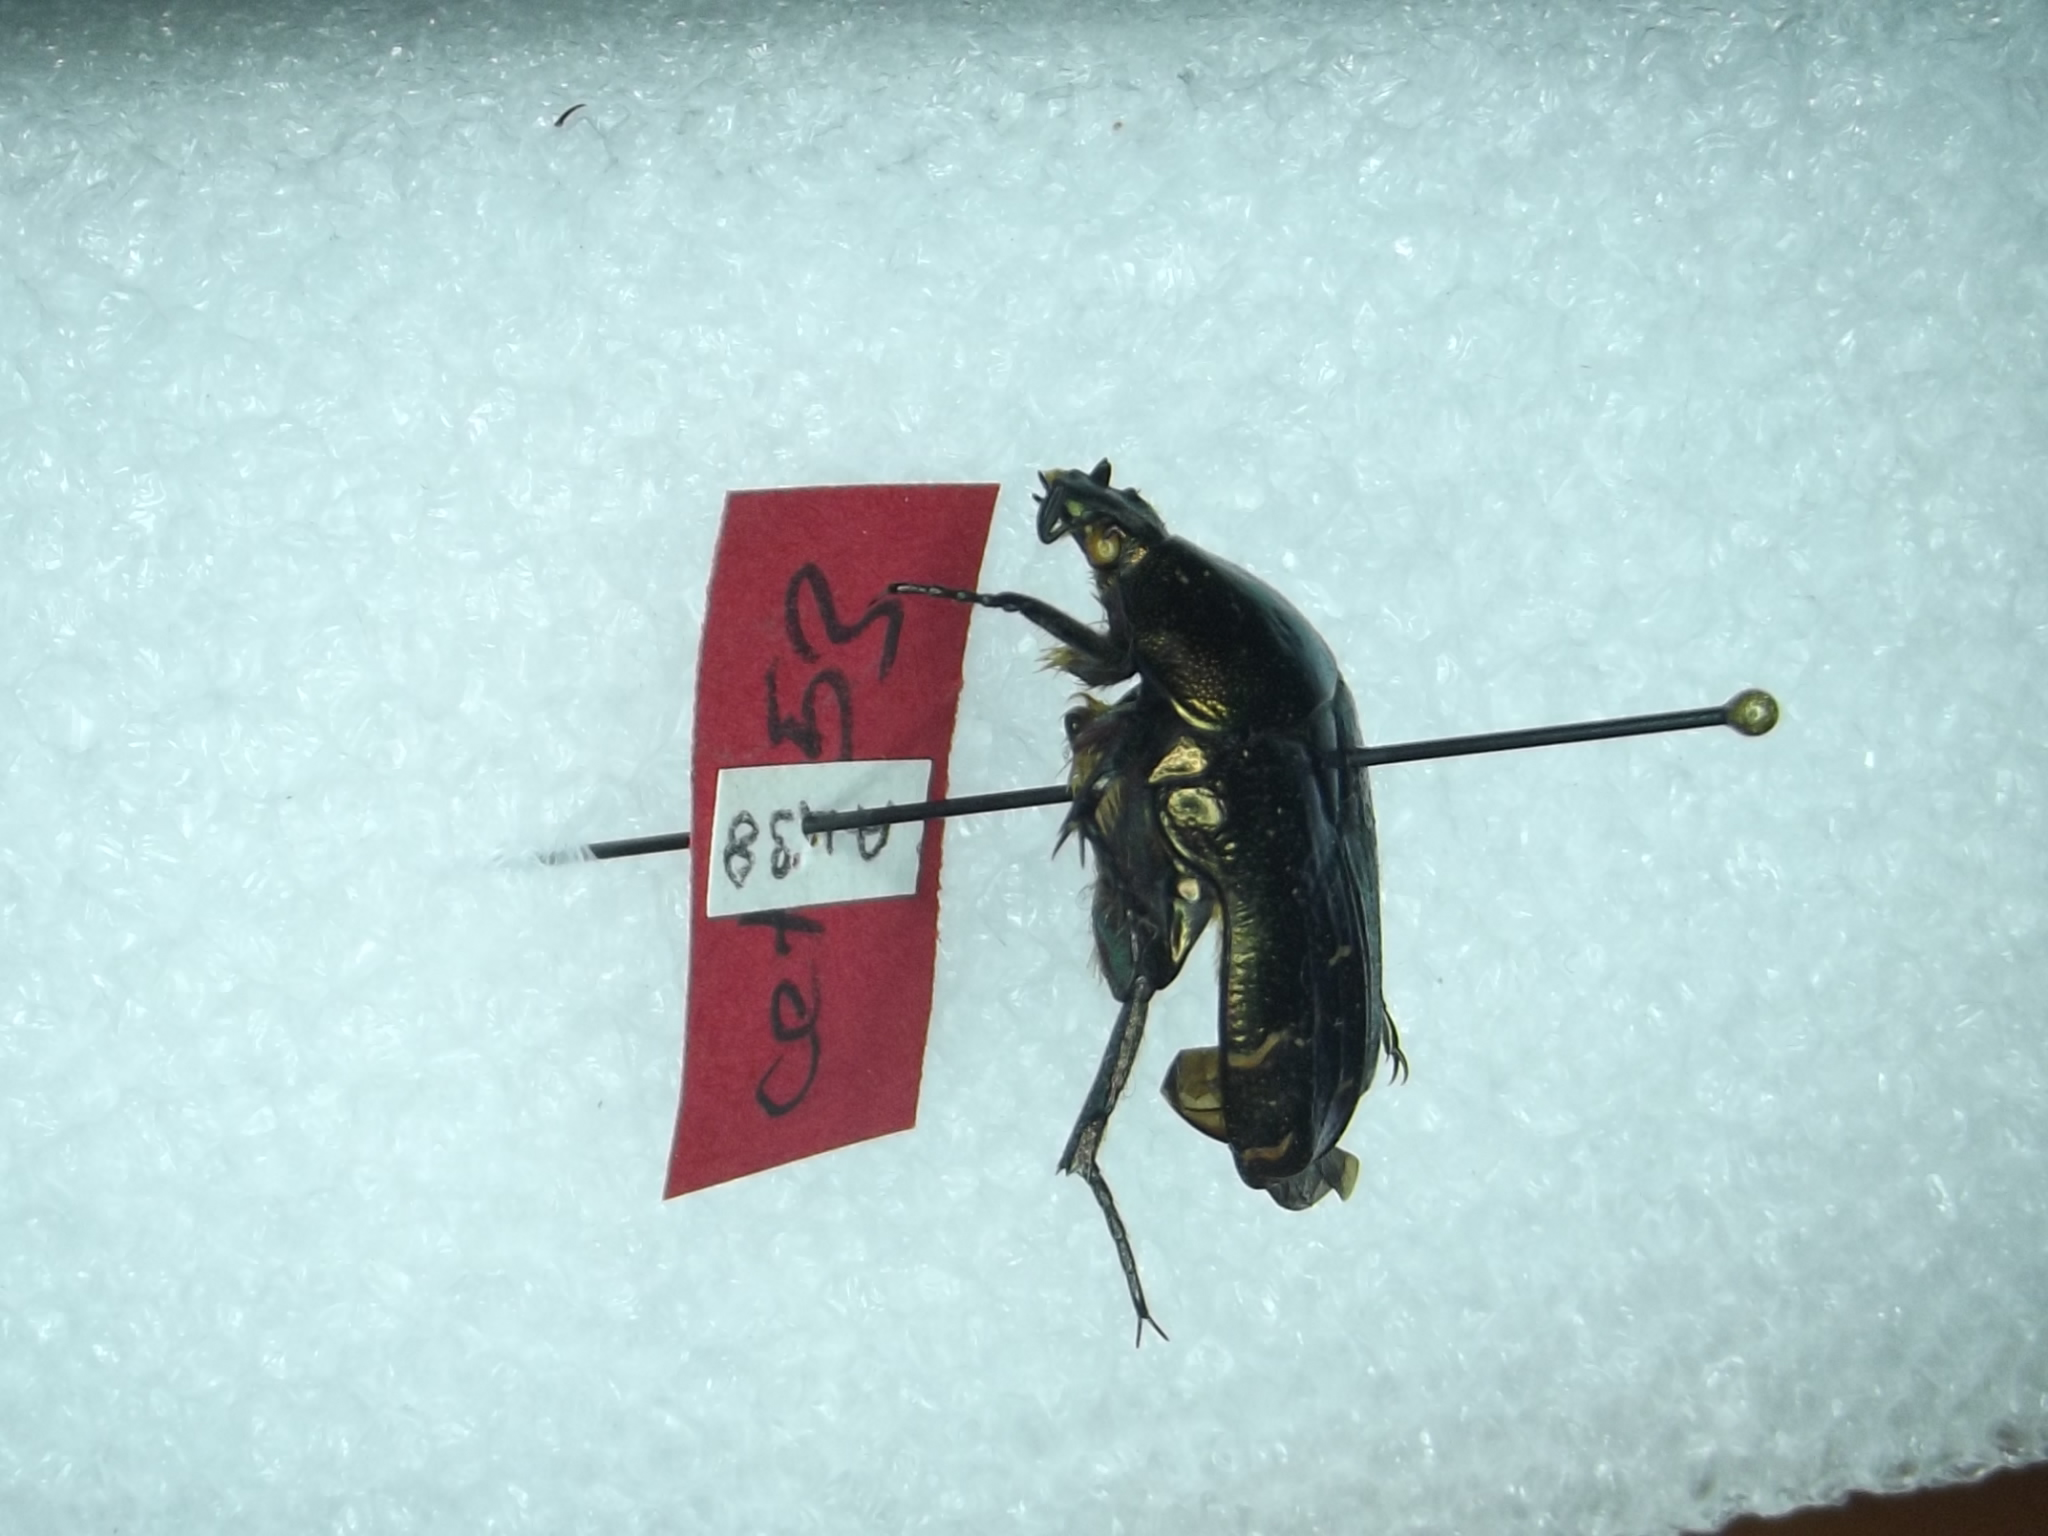Cetonia_kemali: (855, 434, 1421, 1350)
